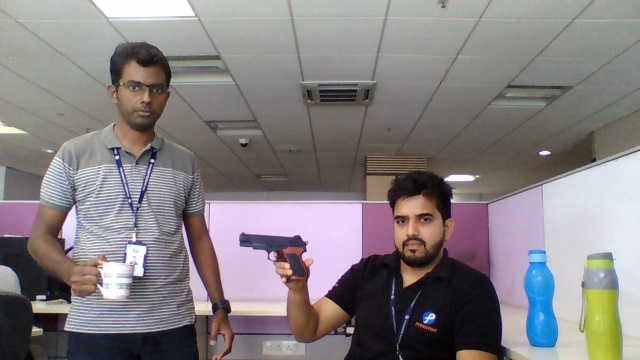gun: (239, 231, 305, 261)
